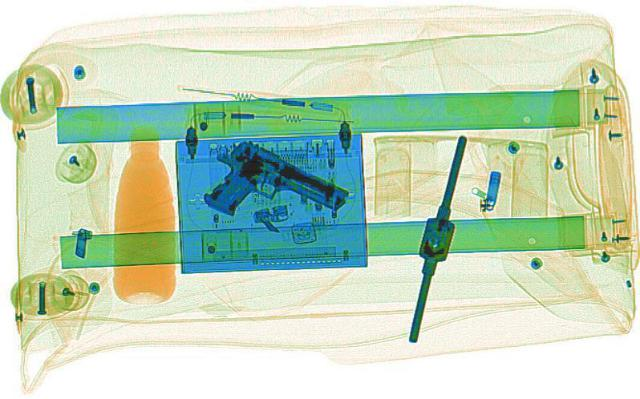Gun: (165, 136, 358, 241)
